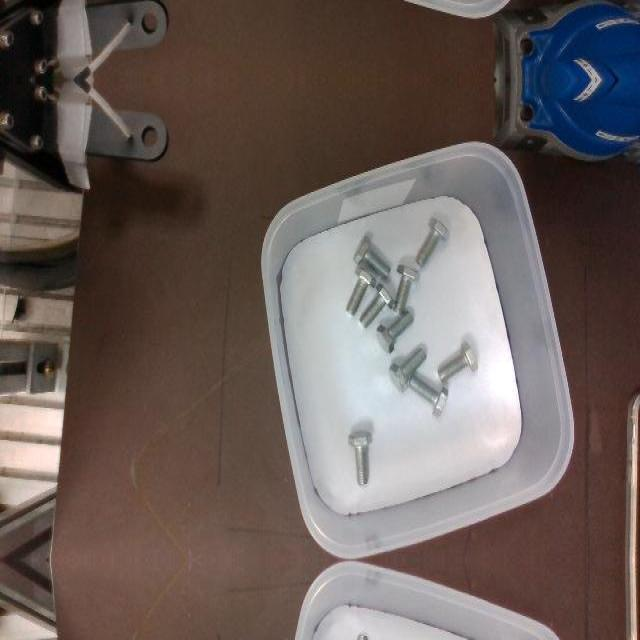screw: (438, 340, 479, 384), (408, 373, 448, 417), (415, 217, 450, 267), (388, 347, 426, 393), (352, 234, 390, 278), (375, 310, 413, 354), (358, 283, 394, 329), (344, 265, 376, 315), (393, 264, 420, 314), (347, 430, 371, 484)
